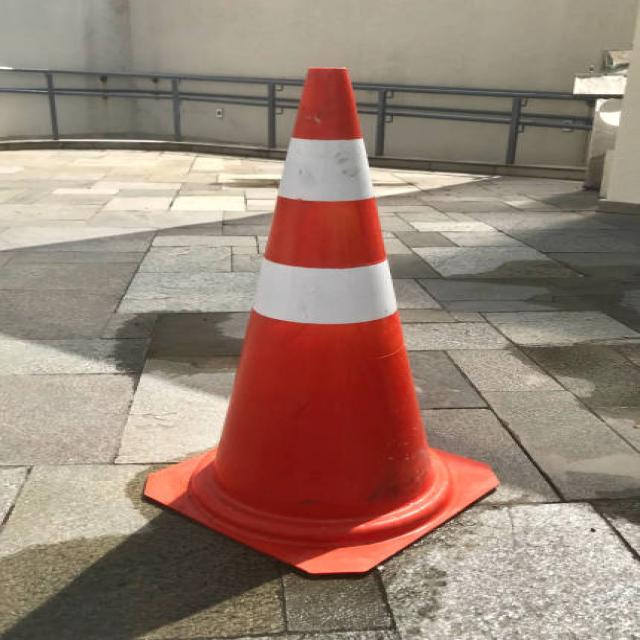Traffic Cone: (114, 33, 546, 591)
